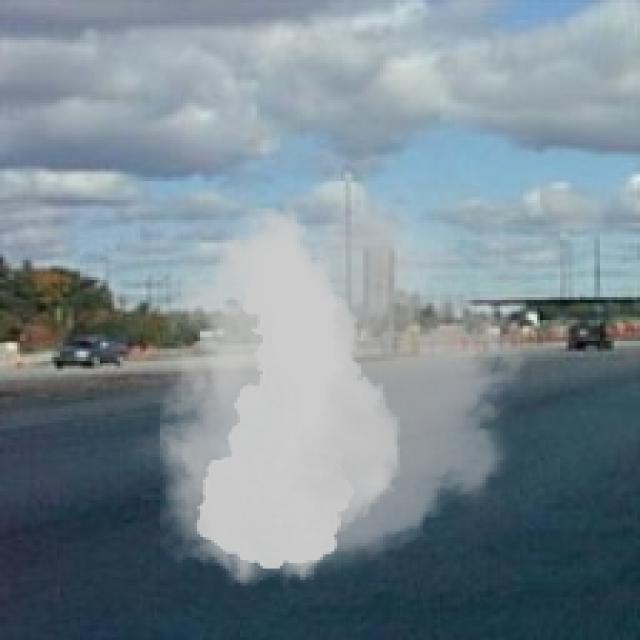Smoke: (126, 180, 552, 597)
